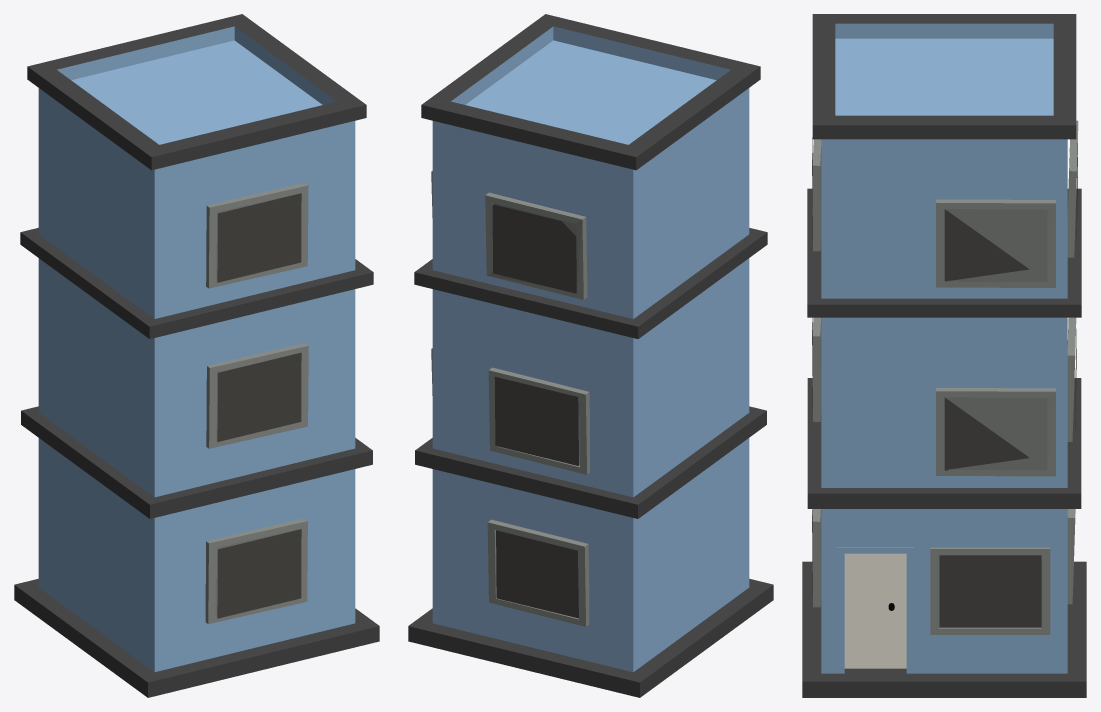
File: blueBuilding.fbx
The picture shows the model from 3 angles, left to right: view 1: azimuth 30°, elevation 25°; view 2: azimuth 150°, elevation 25°; view 3: azimuth 270°, elevation 25°; orthographic projection. The views are drawn at different scales.
Parts seen in each view (by area): view 1: Cube, Plane, Plane.008, Plane.009, Plane.007; view 2: Cube, Plane, Plane.005, Plane.004, Plane.006; view 3: Cube, Plane, Plane.002, Plane.001, Plane.003.
Boxes of the visible parts, bbox=[...] form: Cube: bbox=[14, 14, 379, 697]; Plane: bbox=[205, 183, 308, 623]; Plane.008: bbox=[217, 352, 301, 441]; Plane.009: bbox=[217, 529, 301, 618]; Plane.007: bbox=[217, 193, 301, 282]; Cube: bbox=[408, 14, 773, 697]; Plane: bbox=[431, 170, 589, 626]; Plane.005: bbox=[494, 377, 578, 465]; Plane.004: bbox=[492, 204, 576, 293]; Plane.006: bbox=[496, 530, 578, 618]; Cube: bbox=[802, 14, 1086, 697]; Plane: bbox=[812, 120, 1078, 634]; Plane.002: bbox=[939, 555, 1041, 627]; Plane.001: bbox=[944, 397, 1029, 470]; Plane.003: bbox=[944, 209, 1029, 281].
Bounding box in the file's own units: 533 × 1177 × 533.
